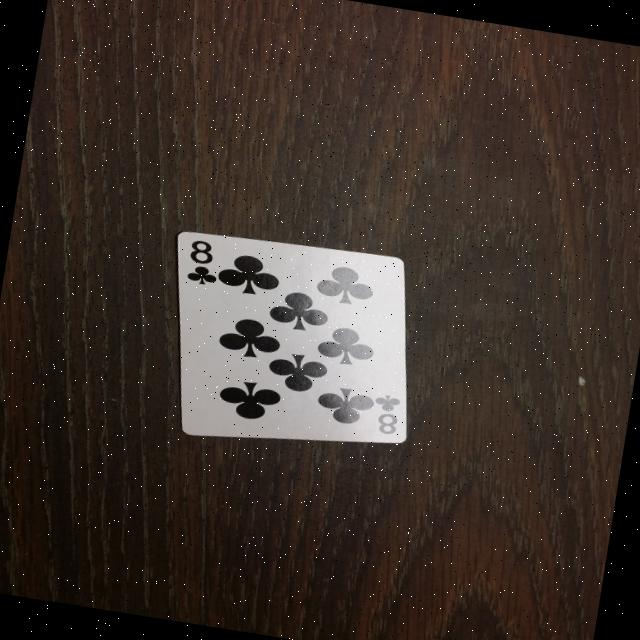8c: (180, 233, 232, 290), (362, 389, 404, 438)
